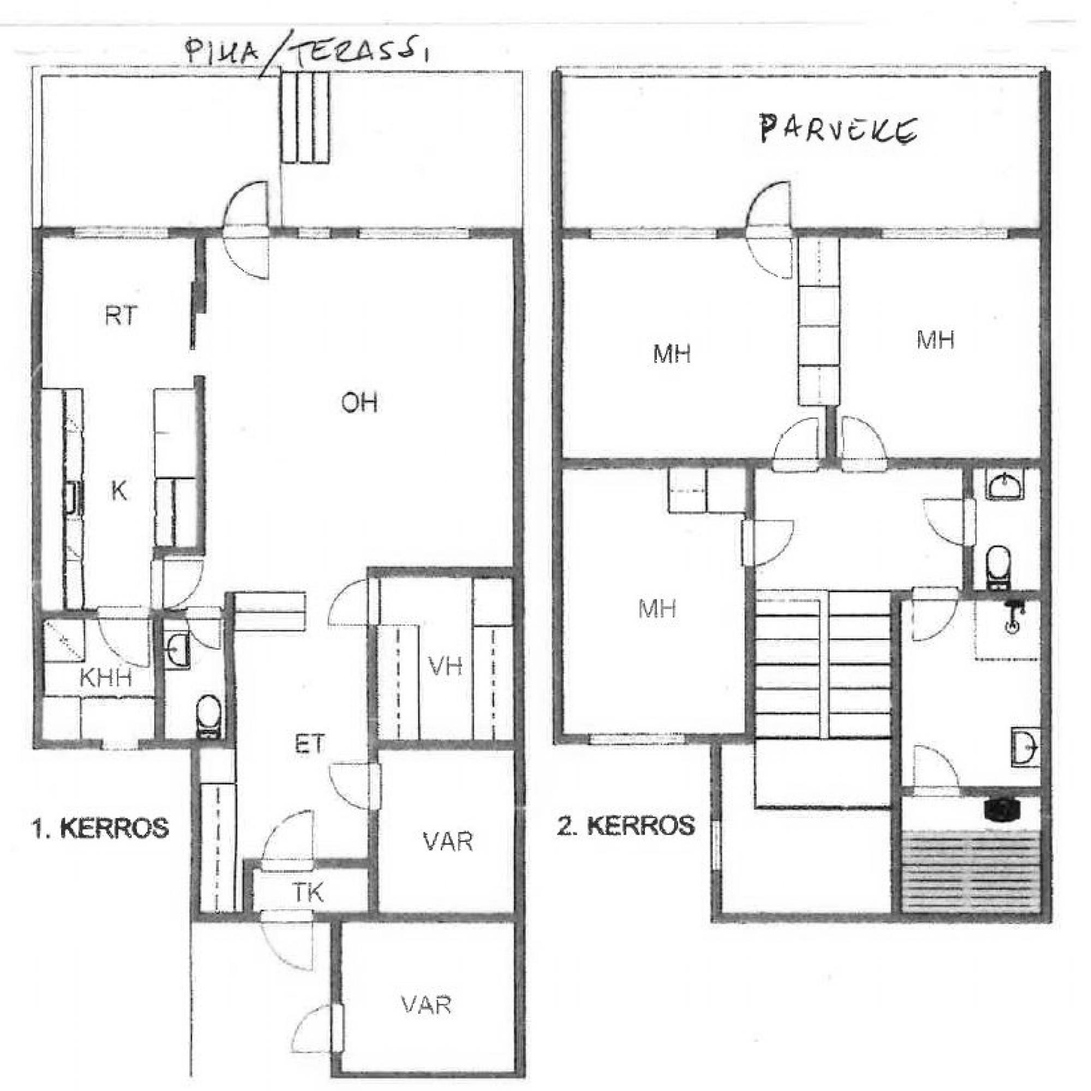wall: (513, 228, 523, 1078), (1040, 226, 1050, 923), (553, 458, 1050, 469), (33, 228, 523, 239), (33, 228, 43, 749), (553, 226, 563, 744), (553, 227, 1050, 237), (712, 913, 1050, 924), (368, 566, 378, 924), (890, 590, 900, 924), (745, 458, 755, 745), (33, 609, 234, 620), (712, 735, 722, 924), (190, 738, 200, 924), (33, 737, 199, 748), (194, 376, 204, 556), (890, 590, 1050, 601), (367, 566, 523, 577), (553, 735, 722, 745), (190, 913, 341, 924), (331, 913, 341, 1078), (890, 786, 1050, 796), (1040, 67, 1050, 227), (553, 67, 563, 227), (367, 913, 523, 923), (224, 593, 234, 749), (368, 739, 523, 749), (242, 858, 377, 869), (964, 458, 974, 601), (154, 609, 164, 749), (331, 1071, 523, 1078), (243, 859, 253, 924), (154, 545, 164, 609), (827, 406, 837, 469), (154, 545, 204, 556), (331, 913, 378, 924), (200, 738, 234, 749), (722, 735, 755, 745)
